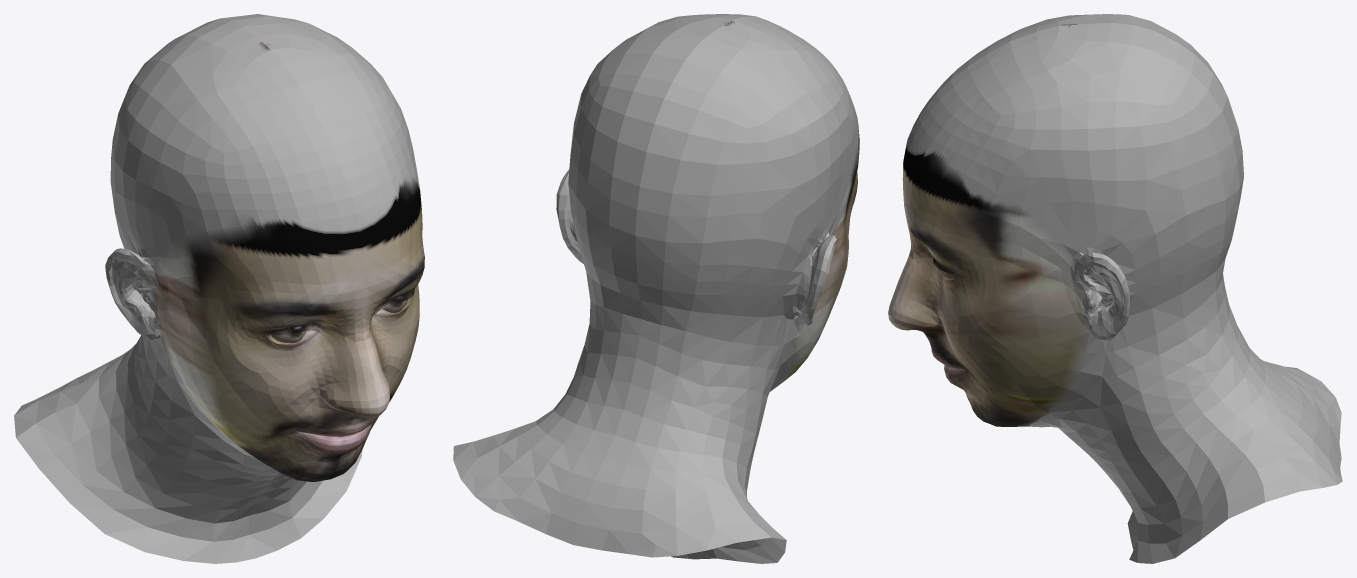
The model's file is ezgif-frame-024.obj.
3 renders of one model, left to right at view 1: azimuth 30°, elevation 25°; view 2: azimuth 150°, elevation 25°; view 3: azimuth 270°, elevation 25°, orthographic. The views are drawn at different scales.
Size of the model in its own units: 0.2099 by 0.3291 by 0.2627.
1 material, 1 textured.
